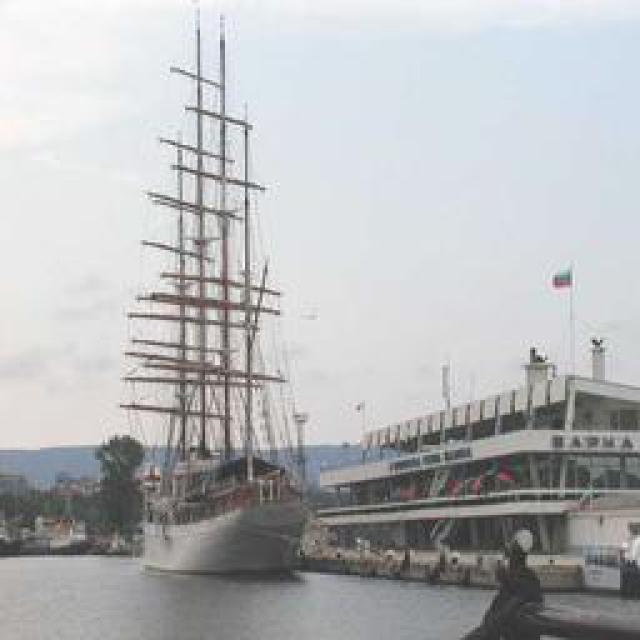Ship: (300, 264, 640, 604), (117, 3, 312, 584)
